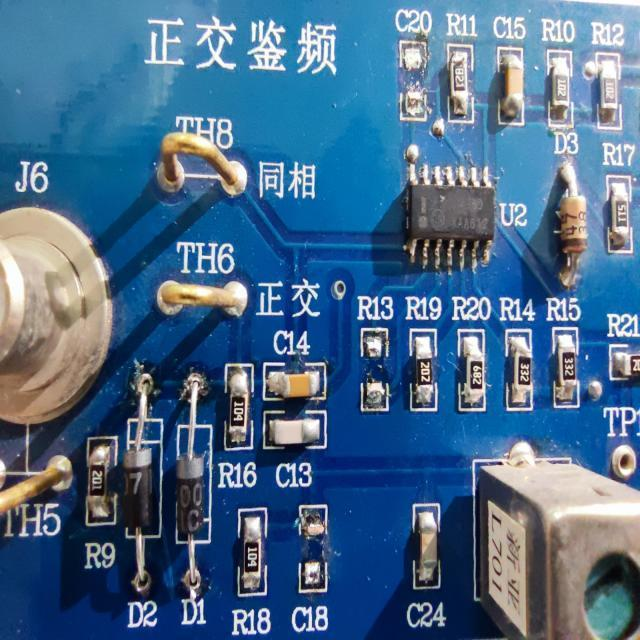Missing component: (389, 2, 437, 125), (355, 286, 396, 430), (293, 502, 336, 637)
